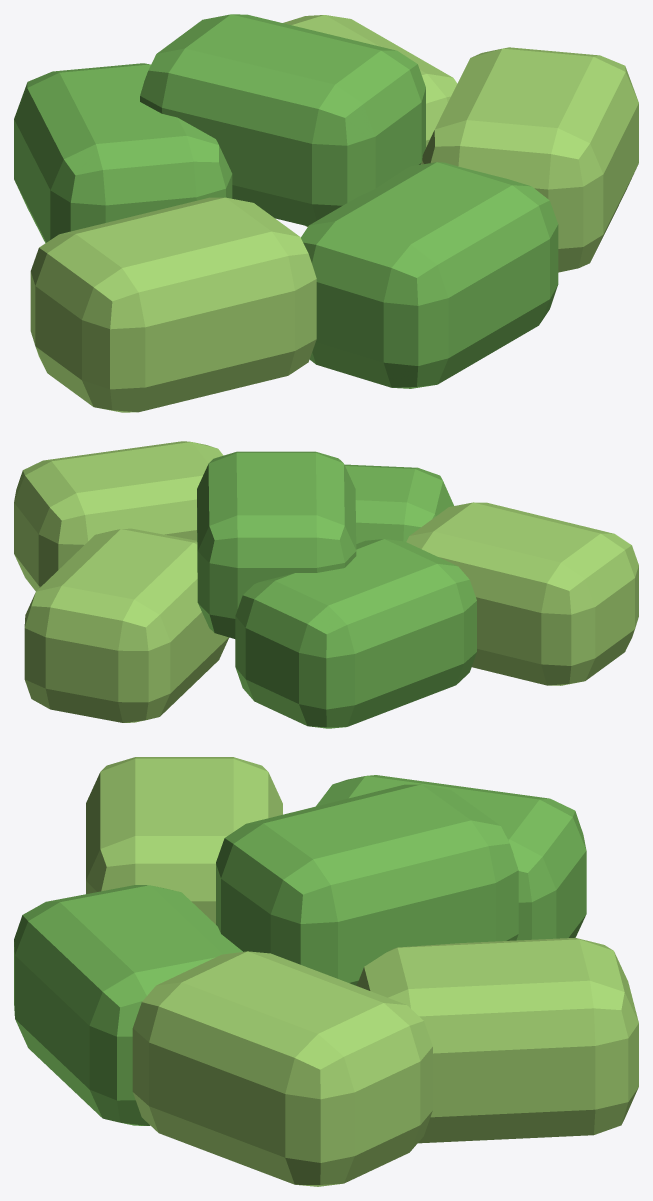
File: Vegetable.fbx
3 renders of one model, top to bottom at view 1: azimuth 30°, elevation 25°; view 2: azimuth 150°, elevation 25°; view 3: azimuth 270°, elevation 25°, orthographic. The views are drawn at different scales.
Parts seen in each view (by area): view 1: ChoppedPiece_00, ChoppedPiece_01, ChoppedPiece_05, ChoppedPiece_02, ChoppedPiece_03, ChoppedPiece_04; view 2: ChoppedPiece_03, ChoppedPiece_04, ChoppedPiece_00, ChoppedPiece_05, ChoppedPiece_02, ChoppedPiece_01; view 3: ChoppedPiece_02, ChoppedPiece_05, ChoppedPiece_04, ChoppedPiece_01, ChoppedPiece_00, ChoppedPiece_03.
Boxes of the visible parts, x1,y1,x2,y2 form: ChoppedPiece_00: (30, 197, 316, 412); ChoppedPiece_01: (301, 162, 558, 388); ChoppedPiece_05: (140, 14, 425, 226); ChoppedPiece_02: (421, 47, 638, 272); ChoppedPiece_03: (14, 63, 232, 243); ChoppedPiece_04: (283, 15, 457, 226); ChoppedPiece_03: (235, 539, 476, 728); ChoppedPiece_04: (24, 528, 229, 722); ChoppedPiece_00: (406, 502, 638, 685); ChoppedPiece_05: (197, 451, 356, 638); ChoppedPiece_02: (14, 441, 223, 591); ChoppedPiece_01: (345, 464, 453, 543); ChoppedPiece_02: (132, 951, 432, 1186); ChoppedPiece_05: (216, 784, 518, 985); ChoppedPiece_04: (356, 937, 638, 1143); ChoppedPiece_01: (14, 885, 242, 1125); ChoppedPiece_00: (86, 757, 282, 924); ChoppedPiece_03: (316, 775, 586, 940).
Bounding box in the file's own units: 0.5544 × 0.19 × 0.4444.
